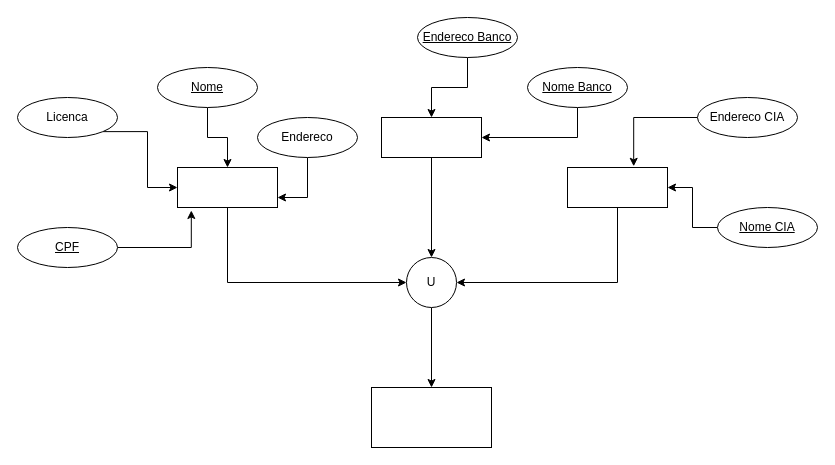
The diagram is 835 pixels wide and 465 high, and some of its shapes have lost their labels. Here are the shapes that lost their labels. From the top down, the centre of each, then its label:
At pixel 431 137: "Banco".
At pixel 227 187: "Pessoa".
At pixel 617 187: "Companhia".
At pixel 431 417: "Dono".
